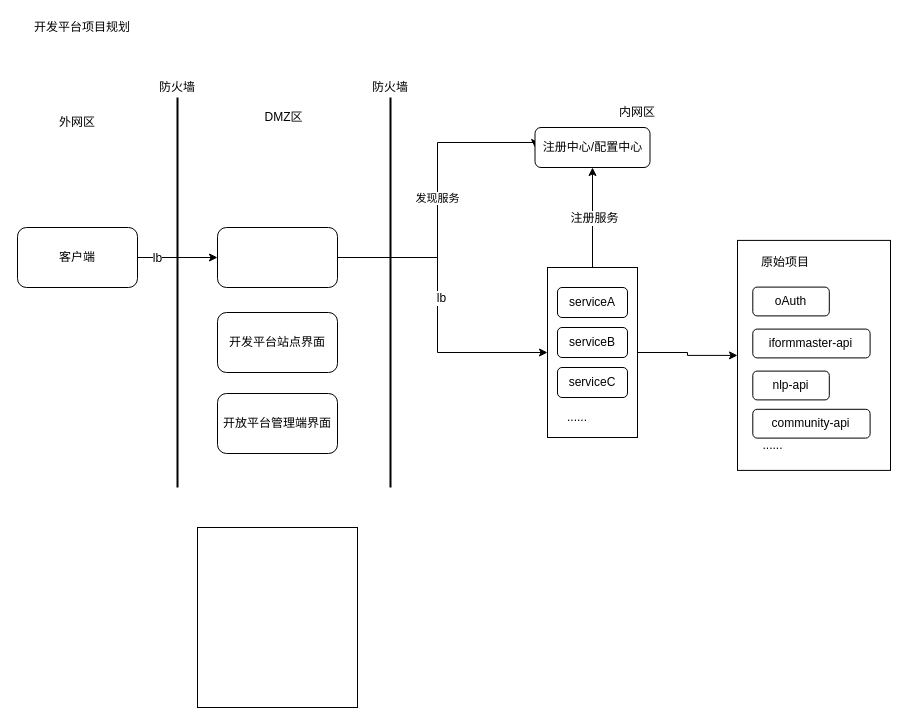
The diagram is 908 pixels wide and 725 high, and some of its shapes have lost their labels. Here are the shapes that lost their labels. From the top down, the box of each, then its label:
(216, 226, 338, 288): 服务网关
(196, 526, 358, 708): 服务网关： token鉴权 密钥管理 参数验证 签名验证 接口权限分配 接口限流 接口计费 高并发熔断 统一异常处理 统一返回内容 监控日志
